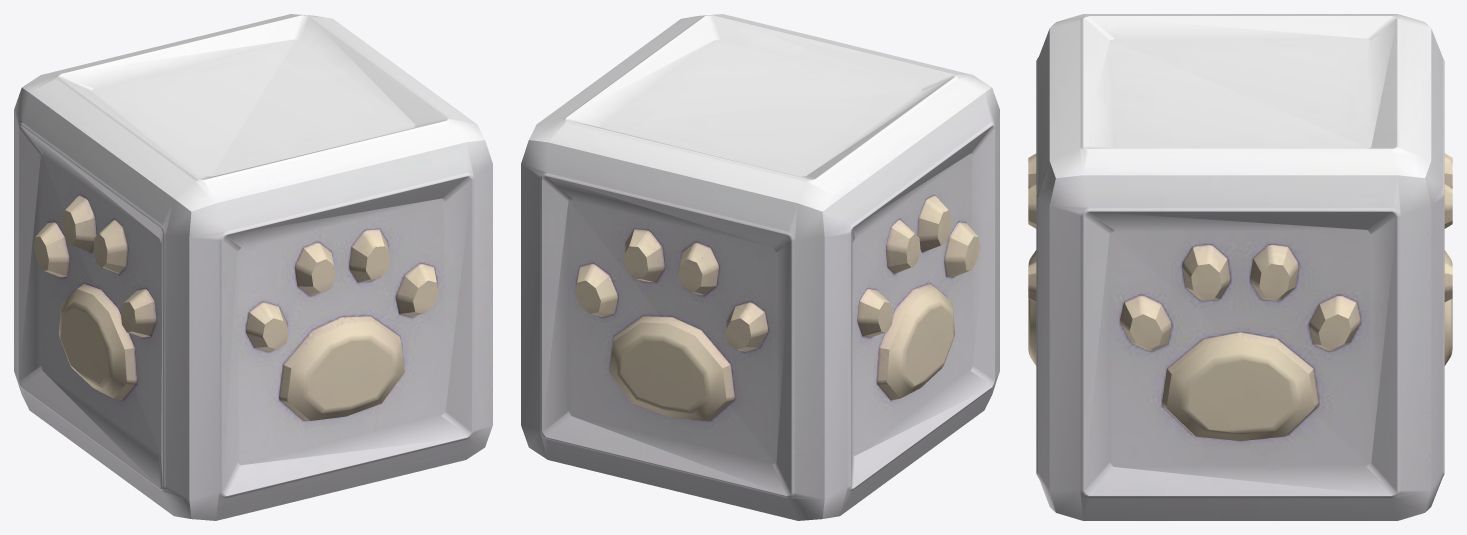
File: pl_kup.glb
The picture shows the model from 3 angles, left to right: view 1: azimuth 30°, elevation 25°; view 2: azimuth 150°, elevation 25°; view 3: azimuth 270°, elevation 25°; orthographic projection. The views are drawn at different scales.
Visible parts, largest first — view 1: pl_kup; view 2: pl_kup; view 3: pl_kup.
Part boxes in pixels (bbox=[...]): pl_kup: bbox=[14, 14, 492, 520]; pl_kup: bbox=[521, 14, 999, 520]; pl_kup: bbox=[1028, 14, 1452, 520].
Bounding box in the file's own units: 1.6 × 1.54 × 1.6.
Materials: 1 (1 with a texture image).
